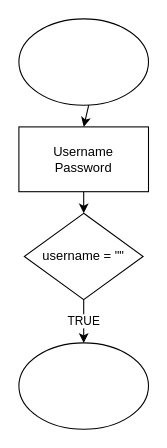
Image size: 167x448. Some labels were removed from this diagram. Each missing label, with the centre of its shape:
"End" belongs at (x=83, y=385).
"Start" belongs at (x=83, y=61).
